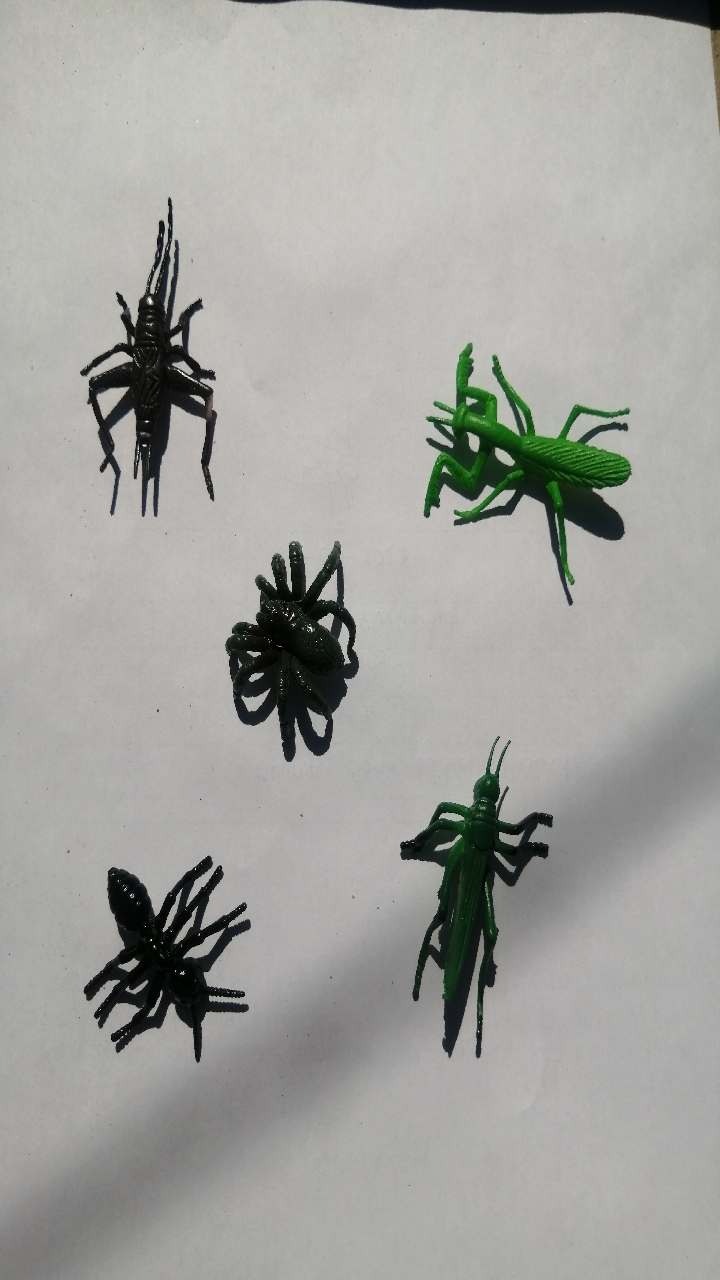intruso: (397, 295, 657, 617), (377, 720, 588, 1065), (52, 151, 234, 505), (57, 811, 280, 1072), (188, 522, 398, 785)
